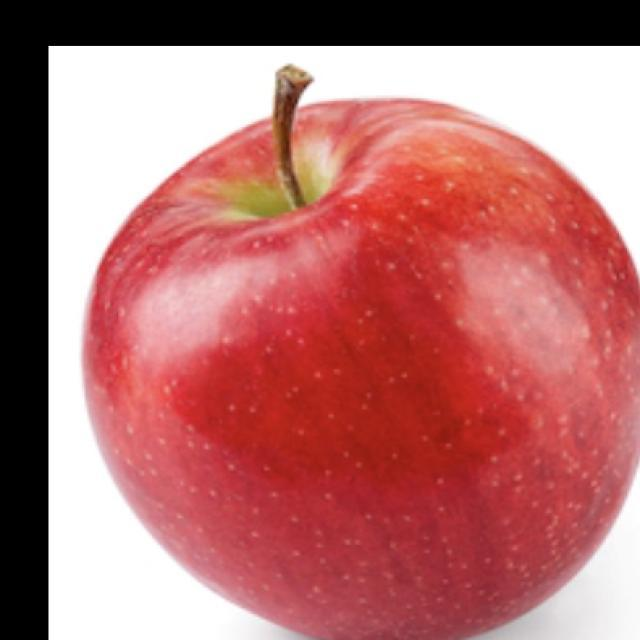Fresh Apple: (71, 81, 640, 640)
